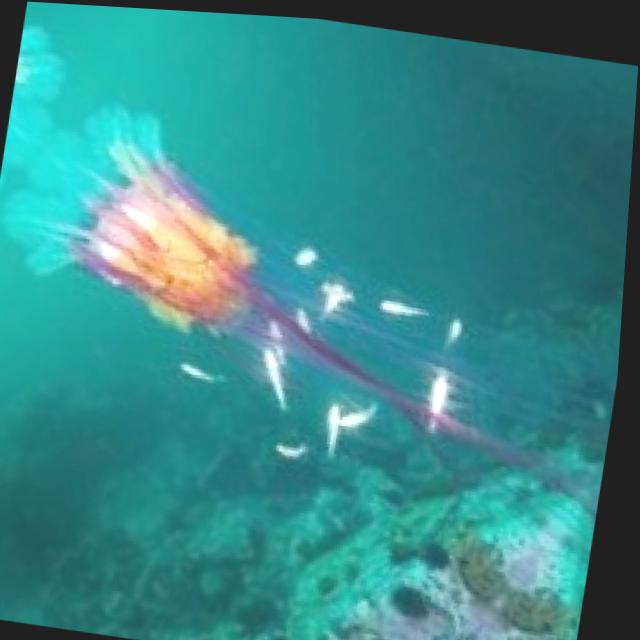Box-jellyfish: (0, 120, 536, 492)
